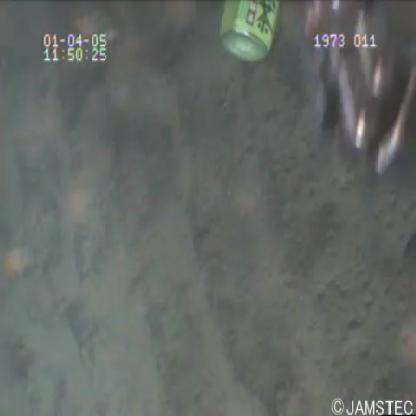Rác: (215, 1, 288, 72)
